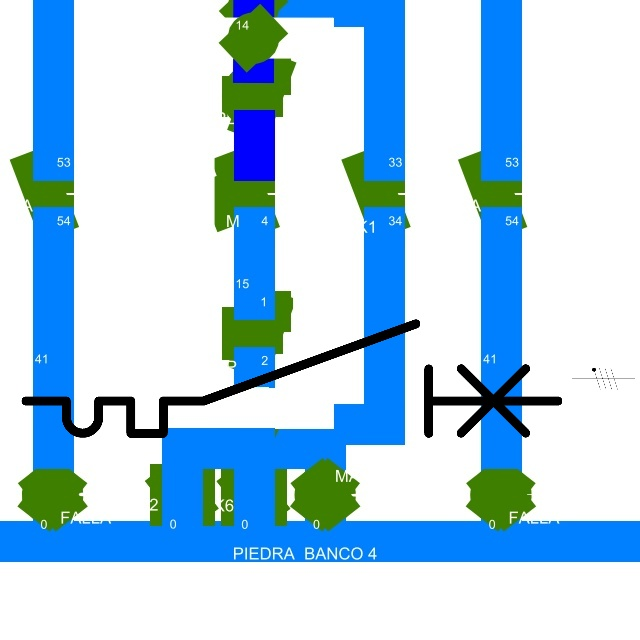interruptor_termomagnetico: (12, 310, 572, 447)
